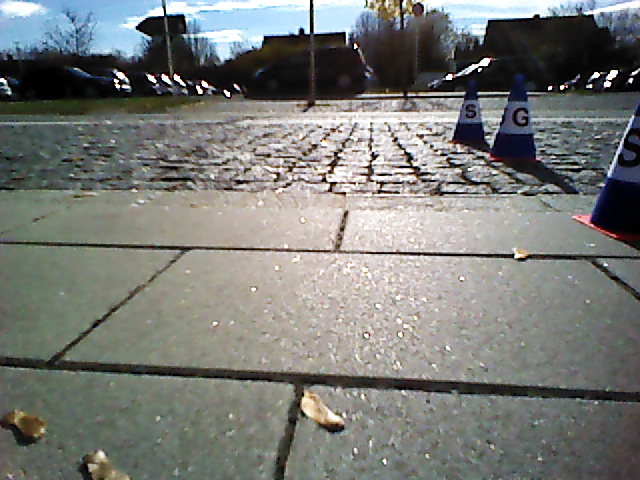bluecone: (492, 74, 534, 158), (455, 80, 484, 138)
